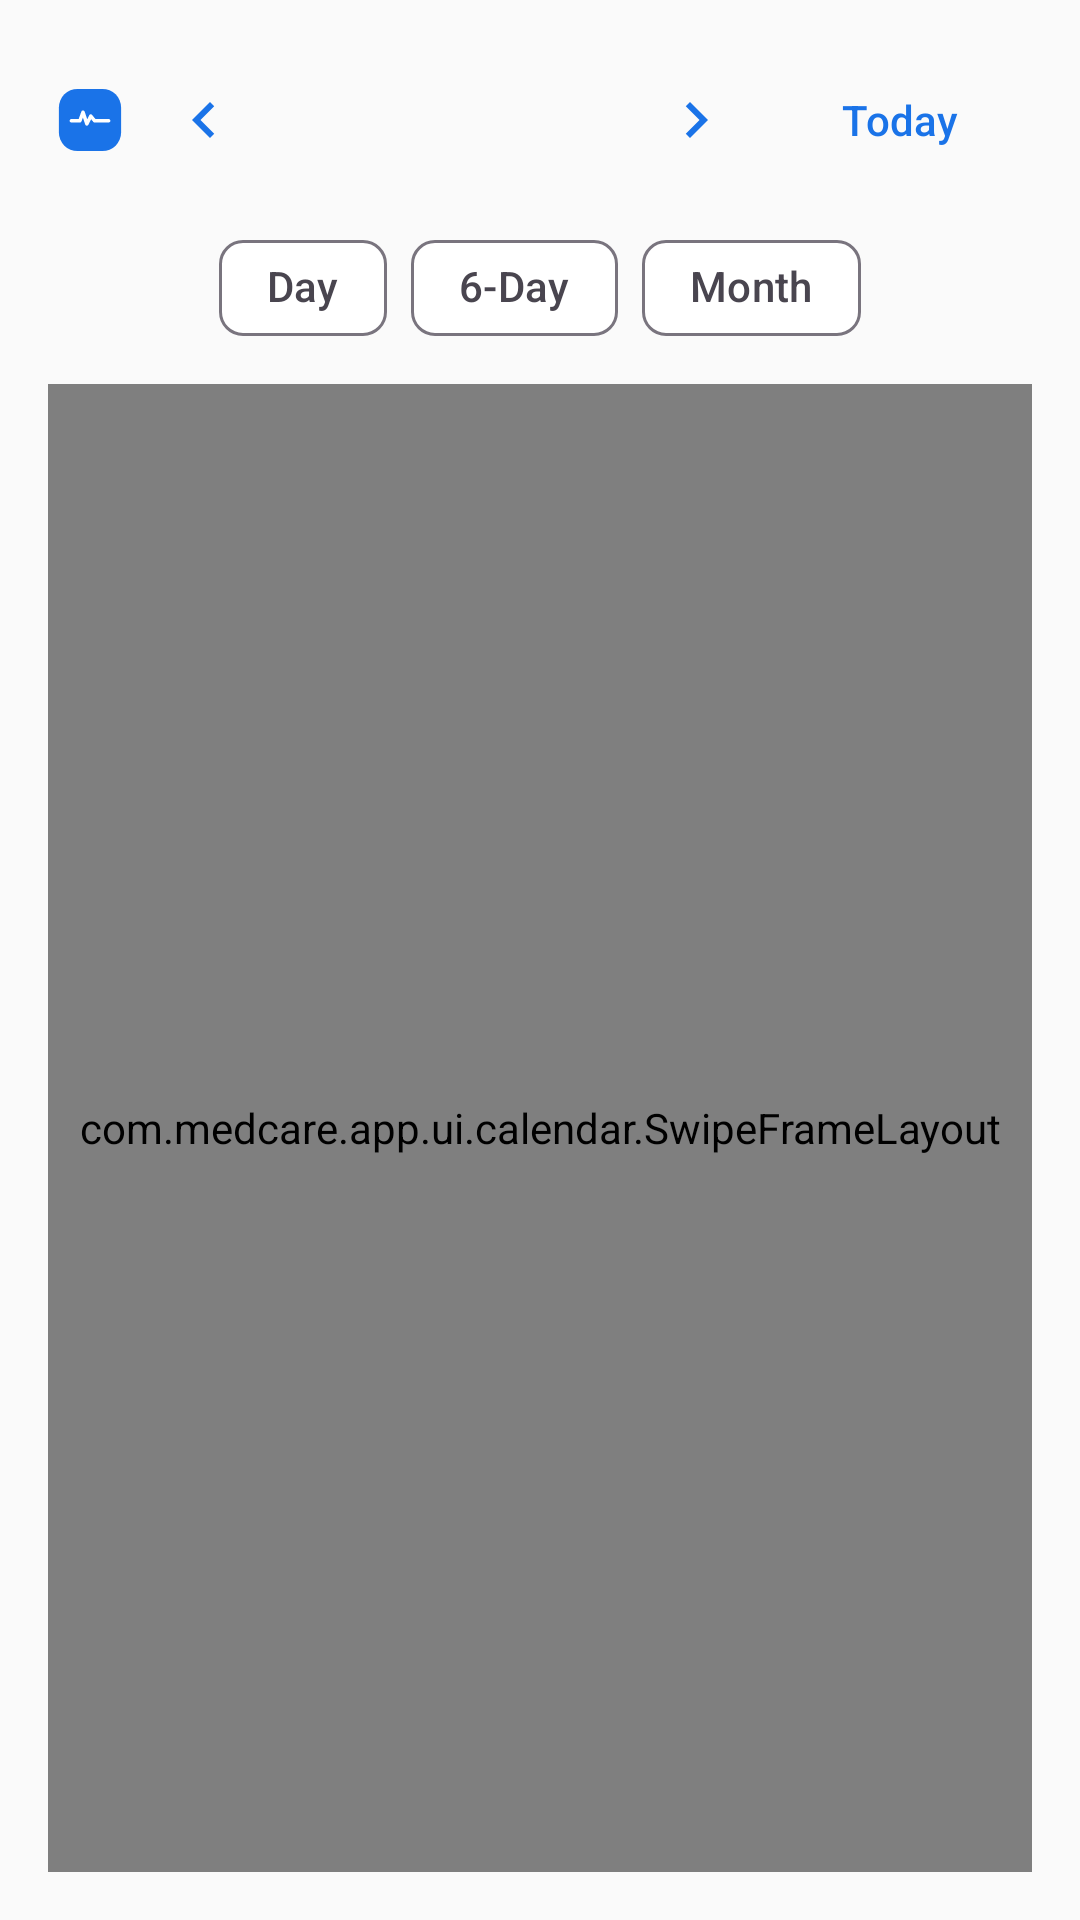

Locate icon controls on the screen. Image size 1080x1920, boxes as (x1, y1, x2, y2).
chevron left: (192, 102, 214, 138)
chevron right: (686, 102, 708, 138)
